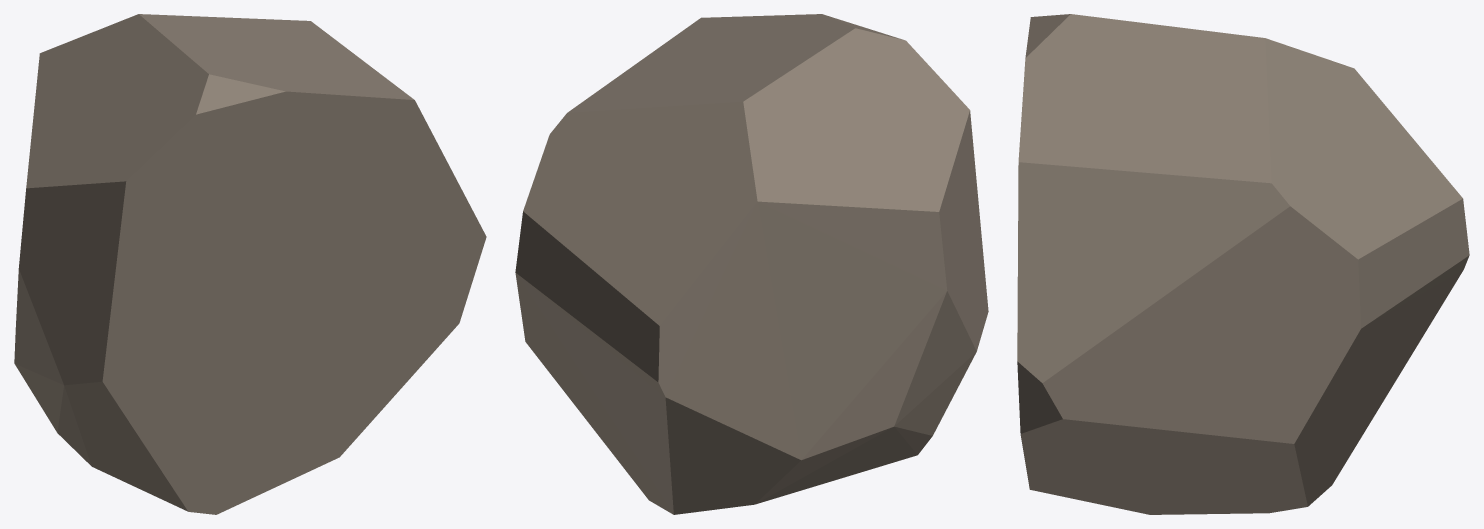
File: stone4.dae
3 renders of one model, left to right at view 1: azimuth 30°, elevation 25°; view 2: azimuth 150°, elevation 25°; view 3: azimuth 270°, elevation 25°, orthographic. The views are drawn at different scales.
Parts seen in each view (by area): view 1: Stone3.1; view 2: Stone3.1; view 3: Stone3.1.
Boxes of the visible parts, x1,y1,x2,y2 form: Stone3.1: (14, 14, 486, 514); Stone3.1: (515, 14, 988, 514); Stone3.1: (1017, 14, 1469, 514).
Size of the model in its own units: 1.75 by 1.61 by 1.83.
1 material, 1 textured.
